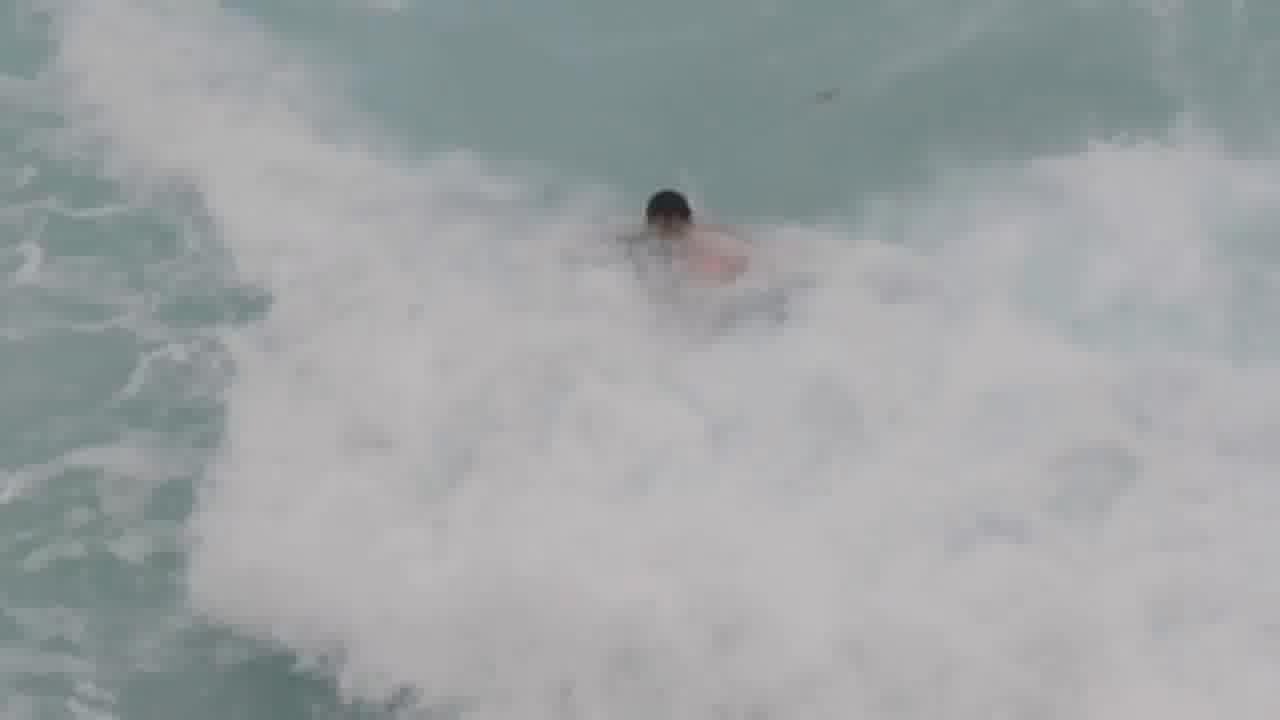swimmer: (593, 177, 753, 289)
